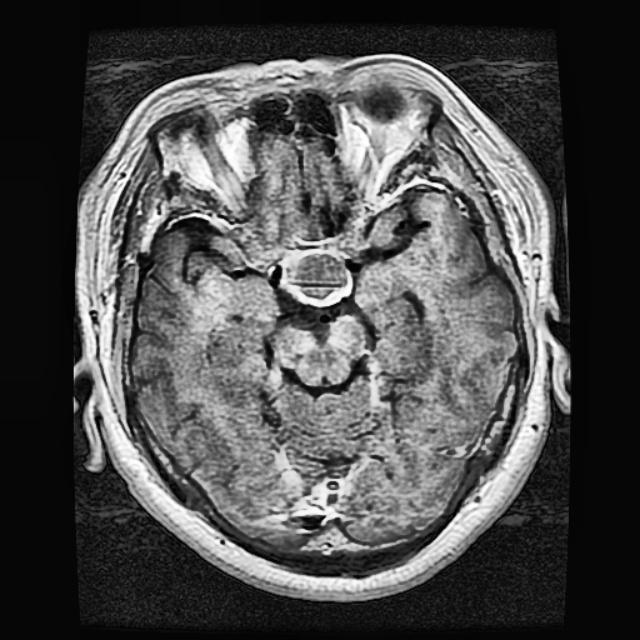Pituitary: (282, 245, 353, 307)
